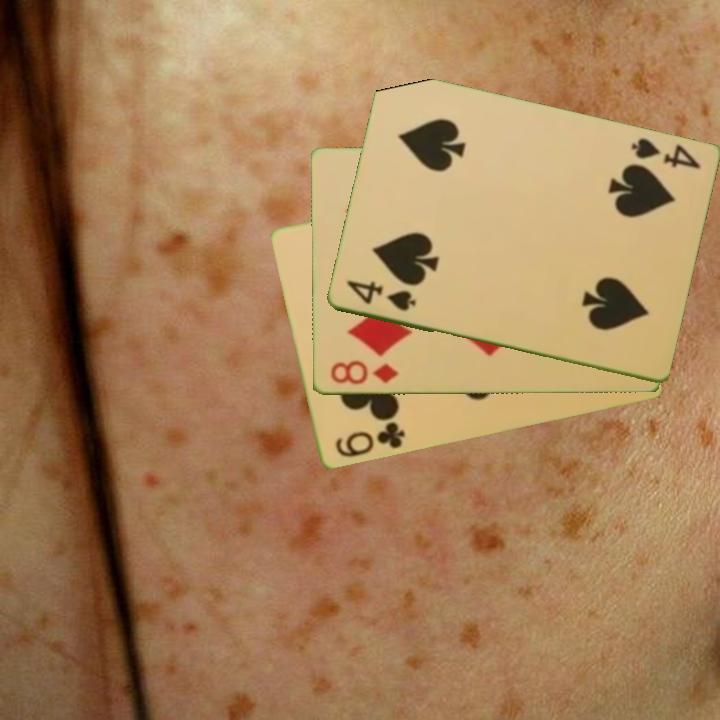4s: (343, 277, 418, 315), (627, 135, 703, 172)
6c: (331, 419, 408, 461)
8d: (327, 358, 401, 388)
